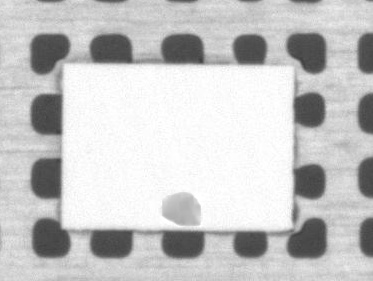DIE_INK: (208, 141, 272, 173)
